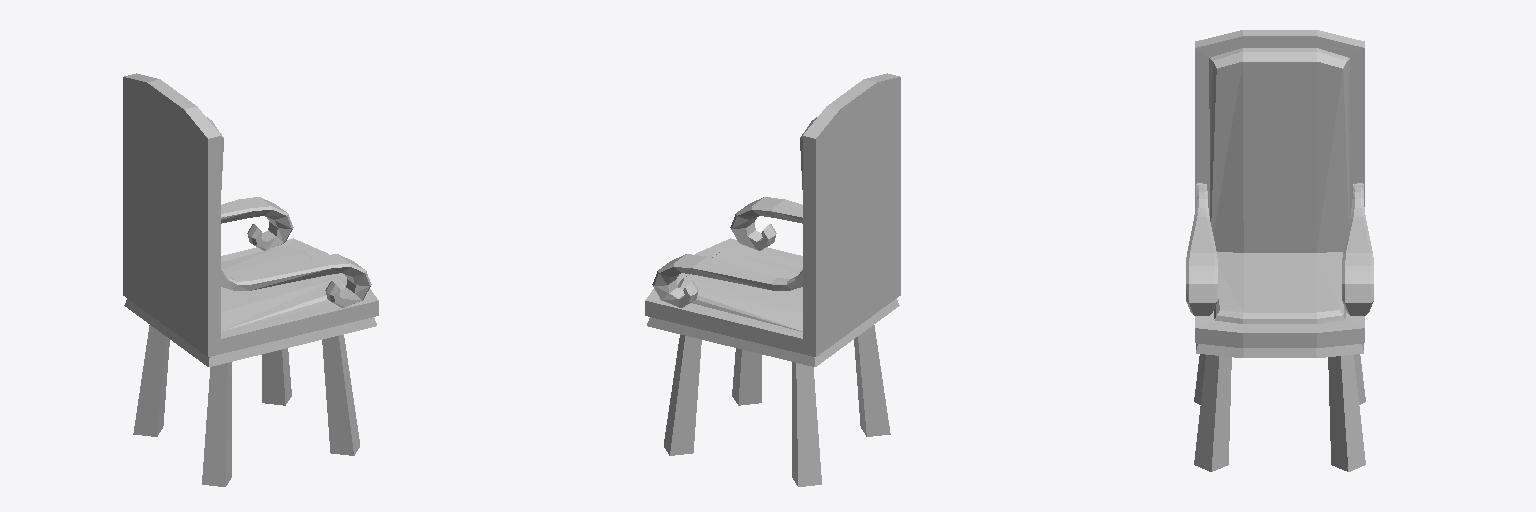
File: CapChair.obj
3 views of the same model, side by side, from view 1: azimuth 30°, elevation 25°; view 2: azimuth 150°, elevation 25°; view 3: azimuth 270°, elevation 25° (orthographic).
Visible parts, largest first — view 1: Cube.001; view 2: Cube.001; view 3: Cube.001.
Boxes of the visible parts, x1,y1,x2,y2 form: Cube.001: [123, 73, 378, 486]; Cube.001: [645, 73, 900, 486]; Cube.001: [1186, 30, 1373, 471].
Size of the model in its own units: 0.5867 by 1.13 by 0.5302.